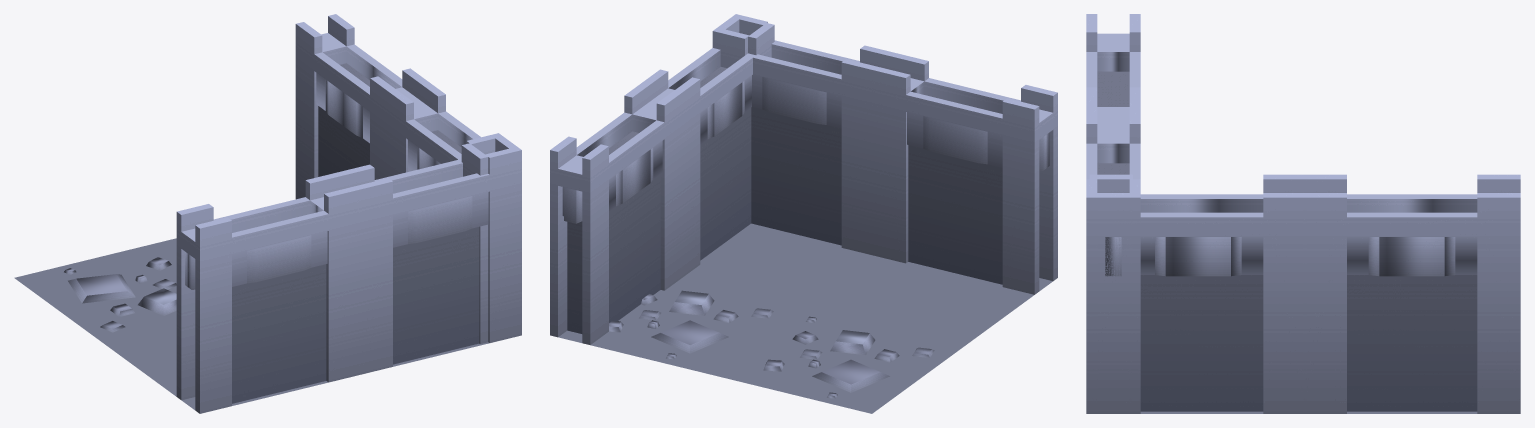
The model's file is Tile_6.glb.
The picture shows the model from 3 angles, left to right: view 1: azimuth 30°, elevation 25°; view 2: azimuth 150°, elevation 25°; view 3: azimuth 270°, elevation 25°; orthographic projection. The views are drawn at different scales.
Visible parts, largest first — view 1: tile_6; view 2: tile_6; view 3: tile_6.
Part boxes in pixels (x1,y1,x2,y2): tile_6: (14, 14, 521, 413); tile_6: (550, 14, 1057, 413); tile_6: (1086, 14, 1520, 413).
Bounding box in the file's own units: 2 × 1.1 × 2.
8 materials, 8 textured.
